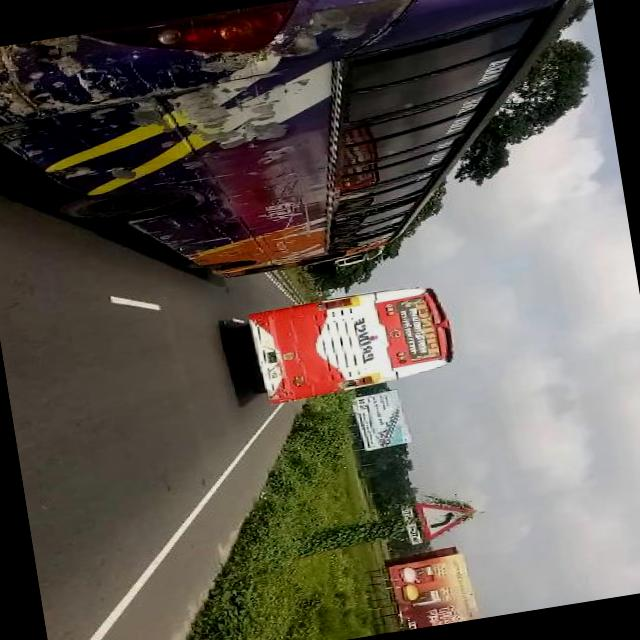bus: (0, 0, 626, 321), (236, 281, 459, 403)
